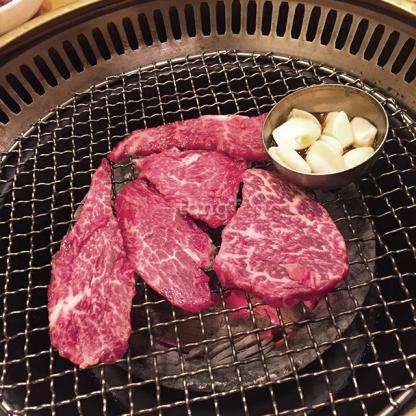beef: (61, 140, 146, 364), (118, 160, 224, 297), (229, 176, 336, 309), (128, 115, 256, 212)
